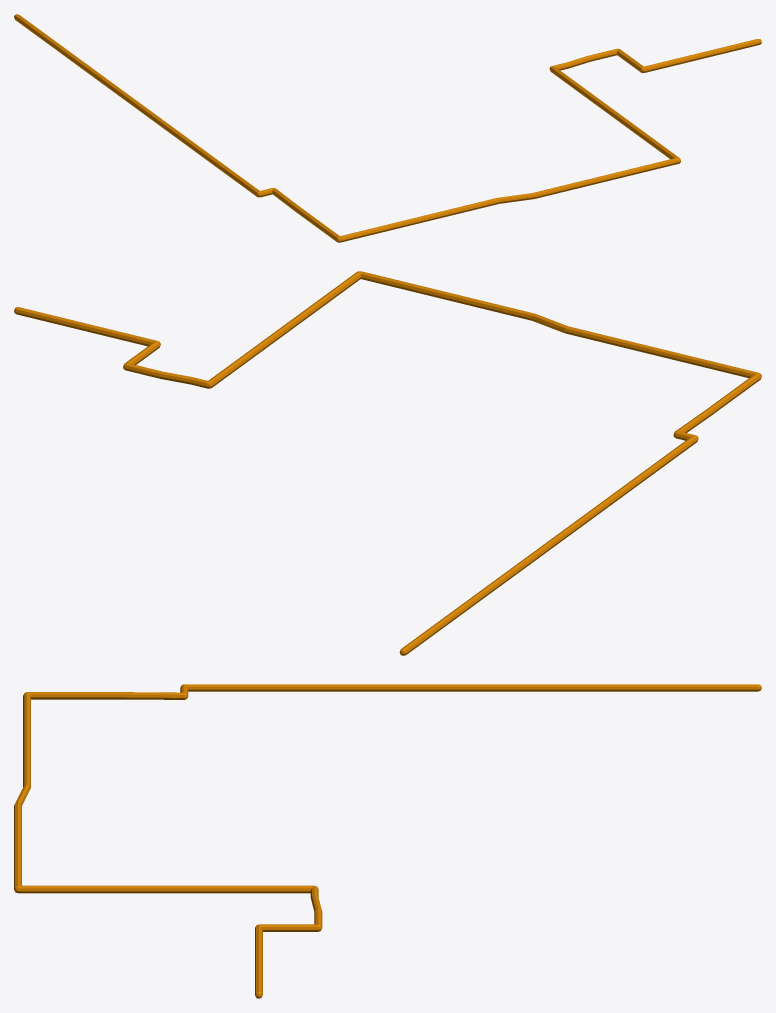
3 views of the same model, one above another, from view 1: azimuth 30°, elevation 25°; view 2: azimuth 150°, elevation 25°; view 3: azimuth 270°, elevation 25° (orthographic). The views are drawn at different scales.
Bounding box in the file's own units: 1857 × 20 × 1891.
